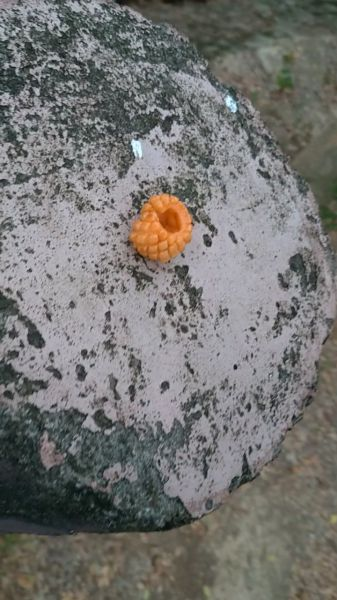eggs: (128, 188, 198, 263)
